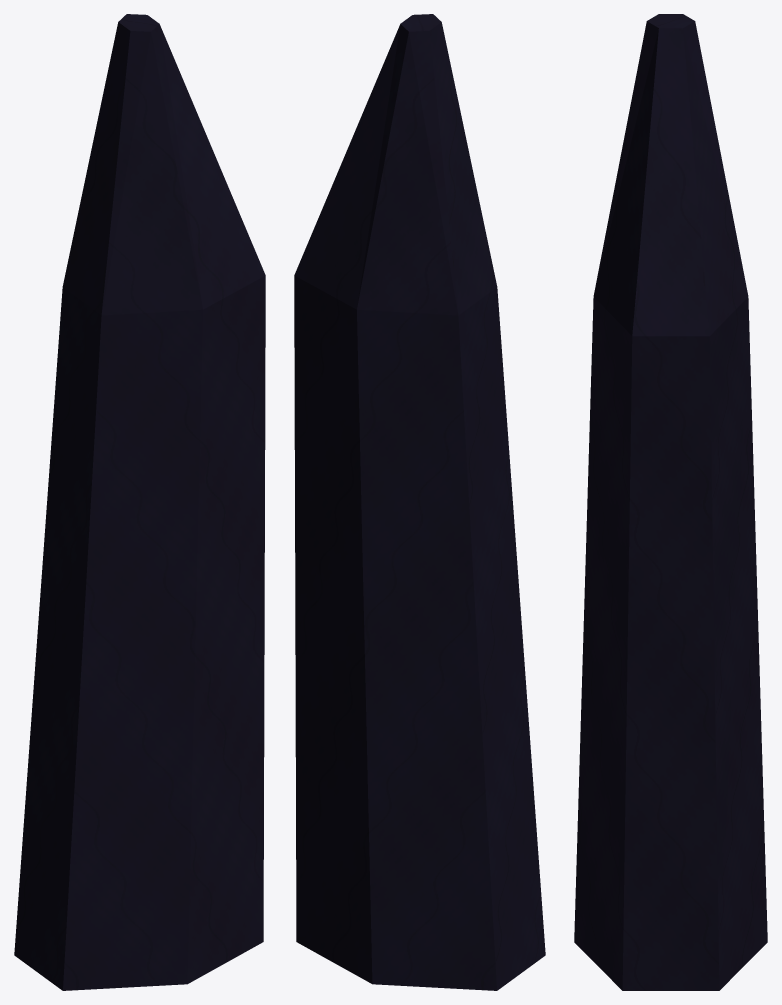
Rendered from Ruin_ObserverMonolith_Shaft.glb.
The picture shows the model from 3 angles, left to right: view 1: azimuth 30°, elevation 25°; view 2: azimuth 150°, elevation 25°; view 3: azimuth 270°, elevation 25°; orthographic projection.
Visible parts, largest first — view 1: Ruin_ObserverMonolith_Shaft; view 2: Ruin_ObserverMonolith_Shaft; view 3: Ruin_ObserverMonolith_Shaft.
Part boxes in pixels (bbox=[...]): Ruin_ObserverMonolith_Shaft: bbox=[14, 14, 265, 990]; Ruin_ObserverMonolith_Shaft: bbox=[294, 14, 545, 990]; Ruin_ObserverMonolith_Shaft: bbox=[574, 14, 767, 990].
Bounding box in the file's own units: 0.986 × 4.2 × 0.8.
Materials: 1 (1 with a texture image).
